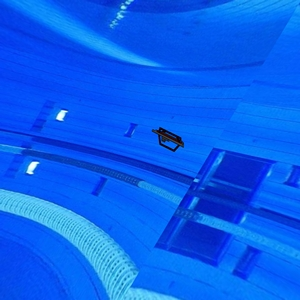submarine: (150, 124, 192, 159)
